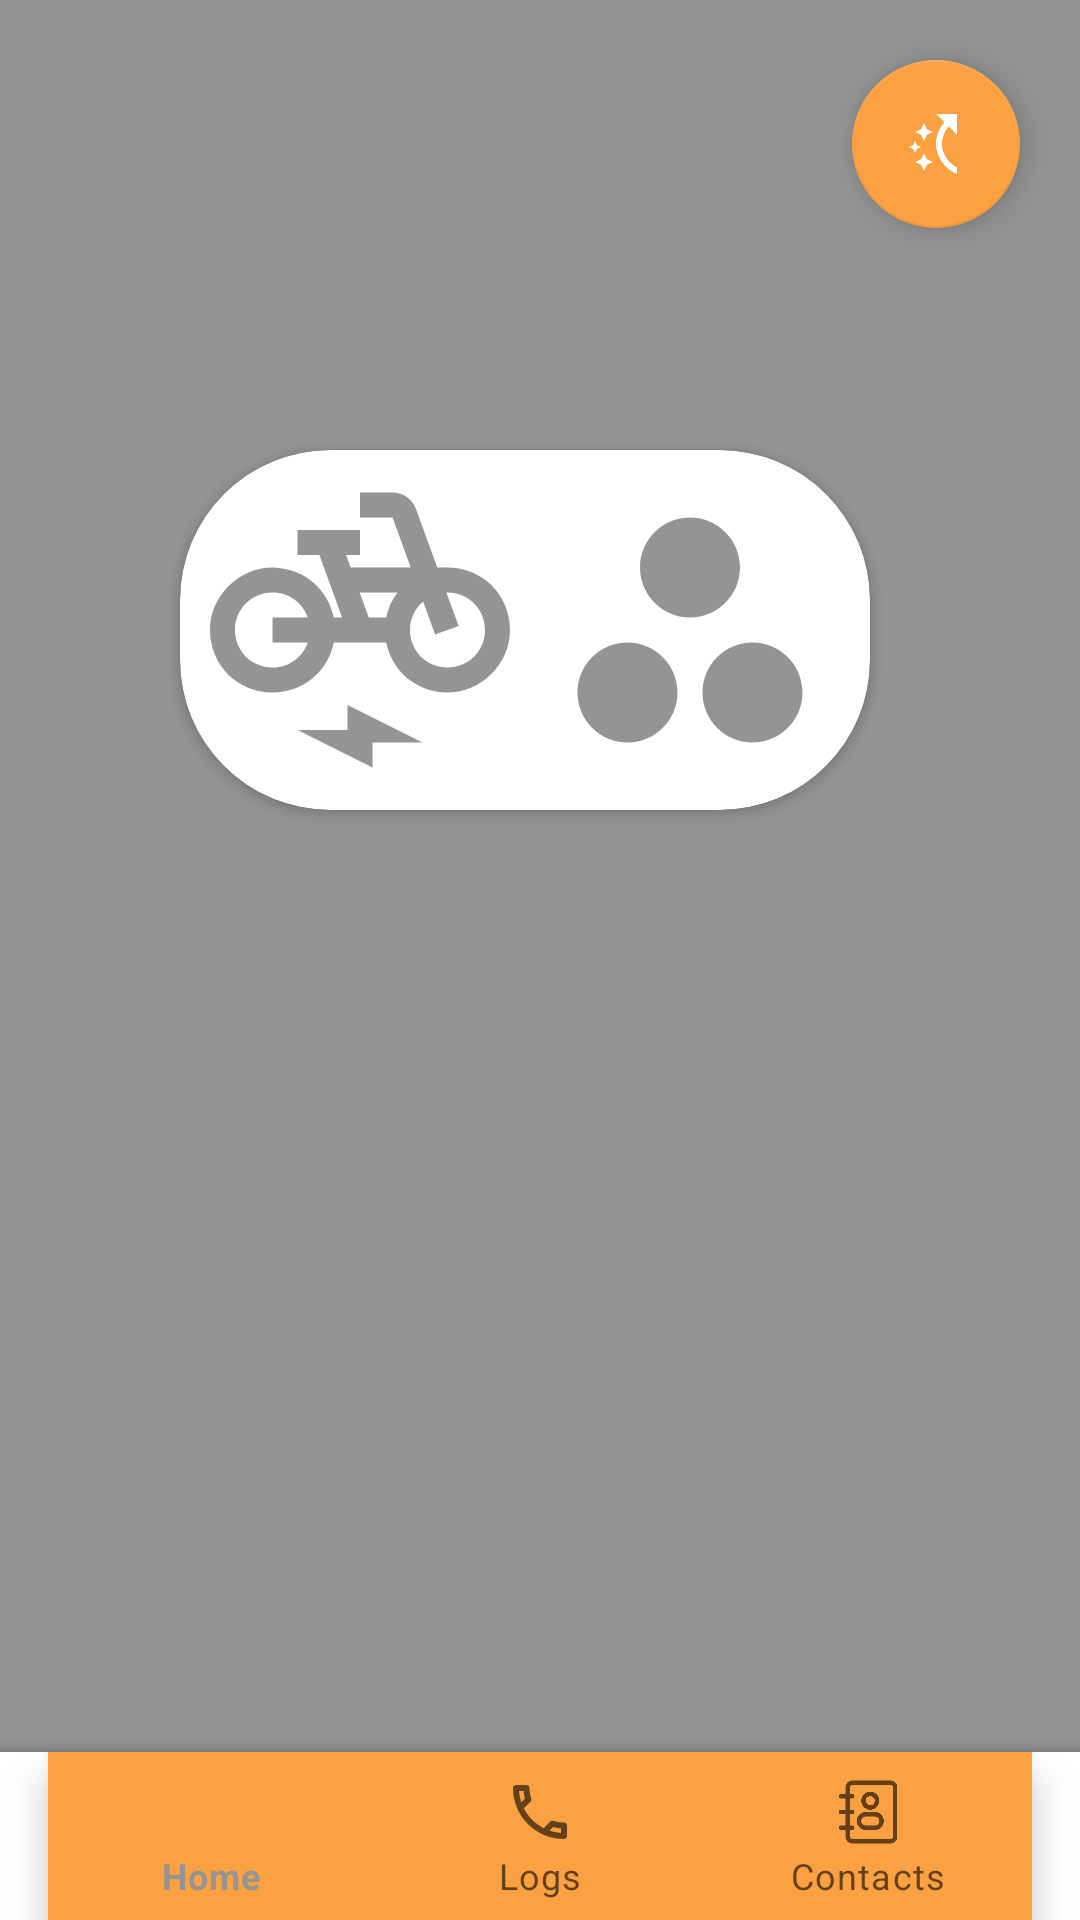

Locate icon controls on the screen. Image size 1080×1920, boxes as (x1, y1, x2, y2).
electric bike: (210, 492, 510, 767)
switch access shortcut: (852, 60, 1020, 228)
